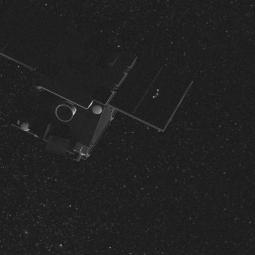proba_2: (6, 0, 171, 172)
